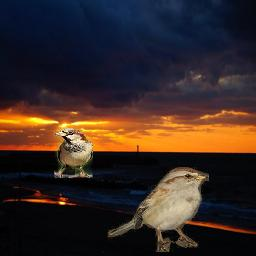Sparrow: (107, 168, 209, 253), (55, 128, 94, 178)
